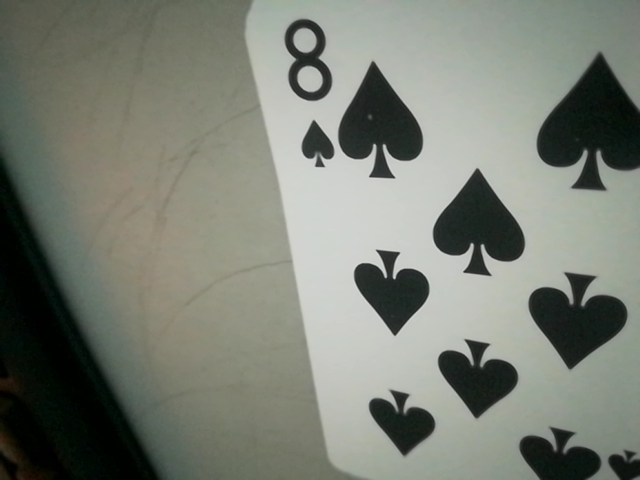ht 8: (270, 11, 350, 185)
